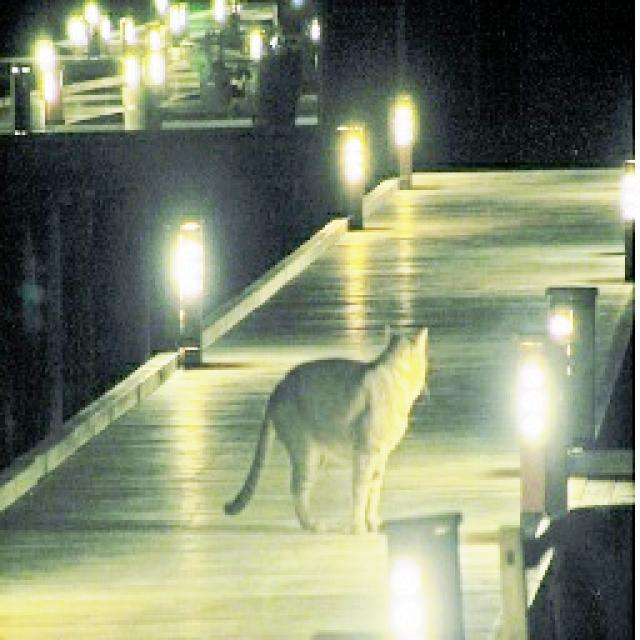cat: (222, 326, 436, 541)
